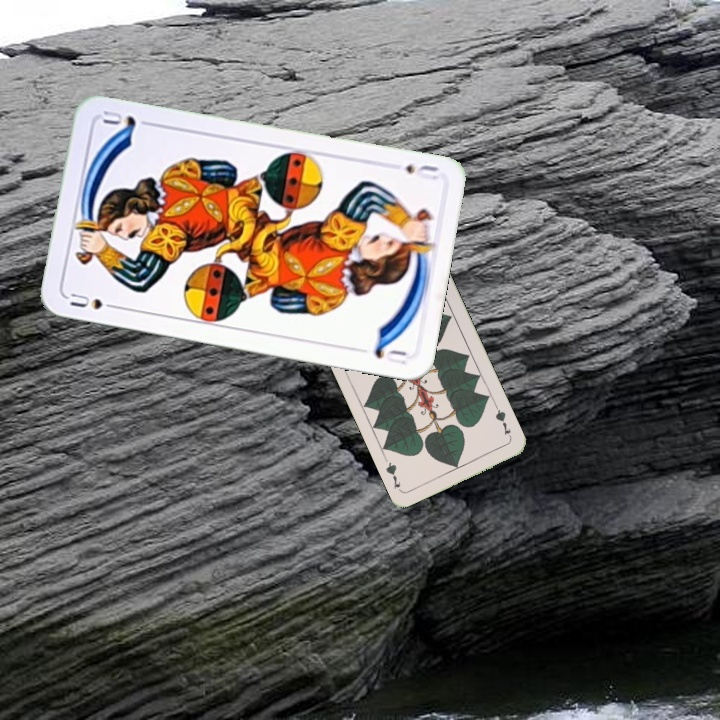G7: (491, 403, 513, 438)
SU: (66, 289, 123, 312), (401, 160, 441, 180)
